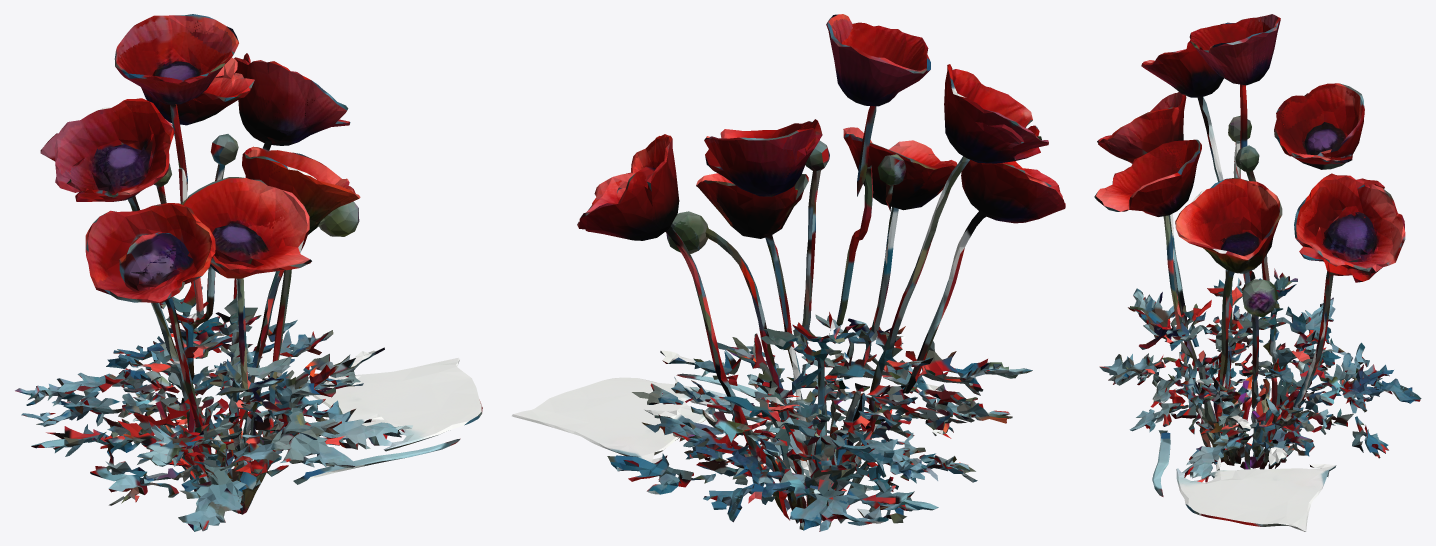
Rendered from traveler_env_coast_tainted_poppy_clump_00001_.glb.
3 views of the same model, side by side, from view 1: azimuth 30°, elevation 25°; view 2: azimuth 150°, elevation 25°; view 3: azimuth 270°, elevation 25° (orthographic). The views are drawn at different scales.
Parts seen in each view (by area): view 1: temp_mesh.ply; view 2: temp_mesh.ply; view 3: temp_mesh.ply.
Boxes of the visible parts, box(x1,y1,x2,y2) form: temp_mesh.ply: box(15, 14, 482, 531); temp_mesh.ply: box(512, 14, 1065, 531); temp_mesh.ply: box(1094, 14, 1421, 531).
Size of the model in its own units: 1.77 by 1.77 by 1.24.
Materials: 1 (1 with a texture image).
